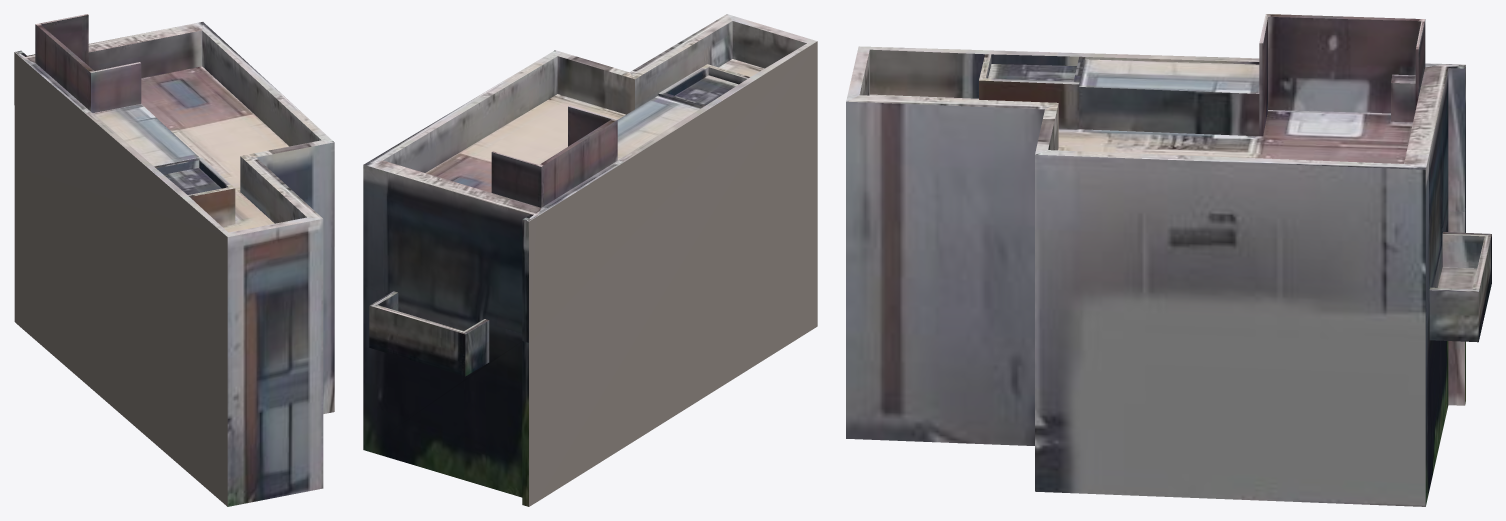
The picture shows the model from 3 angles, left to right: view 1: azimuth 30°, elevation 25°; view 2: azimuth 150°, elevation 25°; view 3: azimuth 270°, elevation 25°; orthographic projection. The views are drawn at different scales.
Visible parts, largest first — view 1: B284114038101062A0; view 2: B284114038101062A0; view 3: B284114038101062A0.
Boxes of the visible parts, bbox=[...] form: B284114038101062A0: bbox=[14, 14, 334, 506]; B284114038101062A0: bbox=[363, 14, 817, 506]; B284114038101062A0: bbox=[846, 14, 1491, 506].
Bounding box in the file's own units: 7.32 × 10.66 × 16.19.
1 material, 1 textured.
